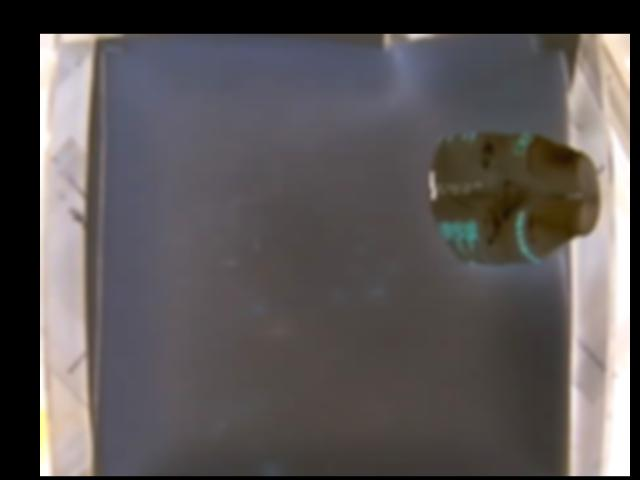Bottle: (429, 133, 602, 267)
